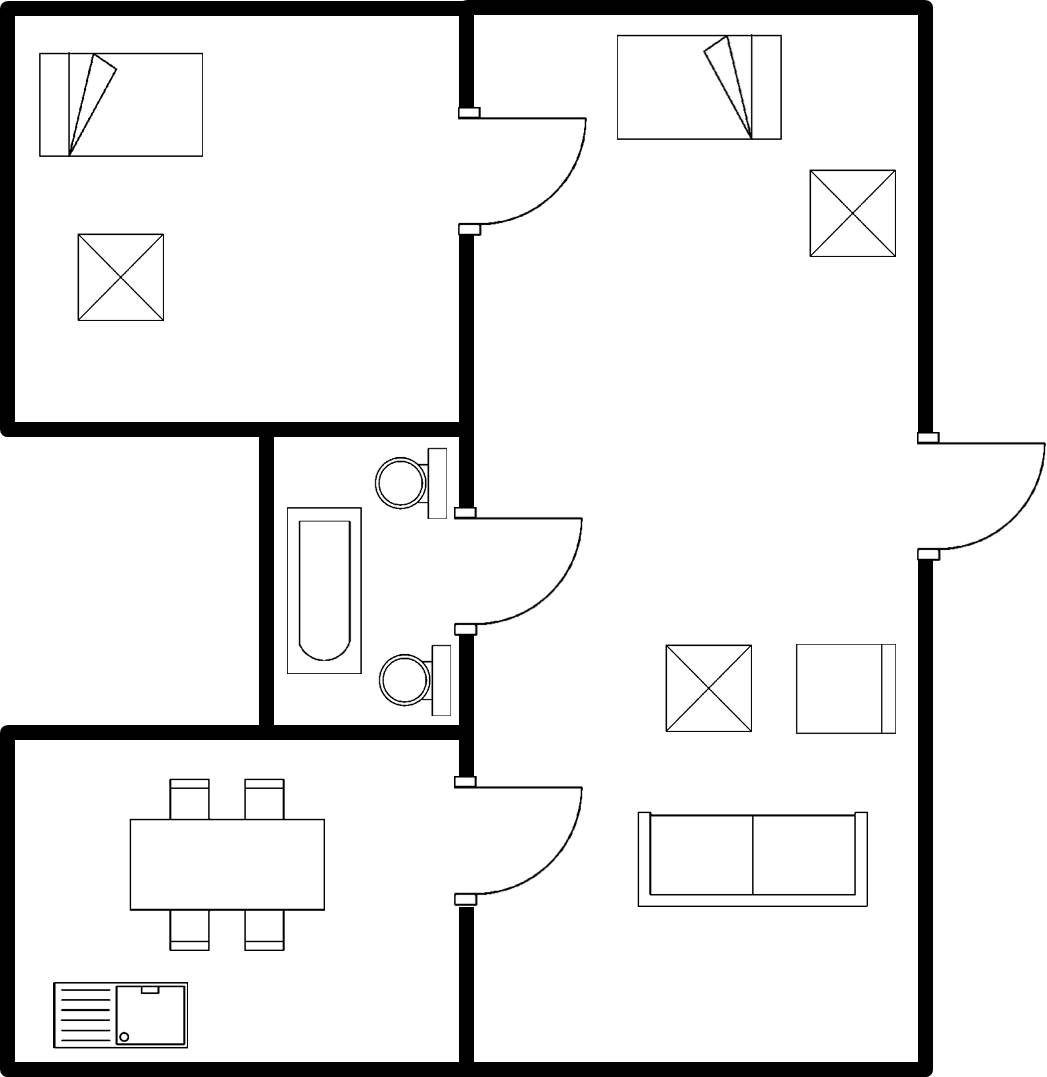bed: (30, 42, 213, 170), (607, 27, 790, 149)
coffee_table: (653, 634, 762, 743), (66, 229, 174, 329), (802, 161, 903, 267)
dining_table: (120, 772, 338, 958)
large_sink: (370, 442, 451, 531), (373, 641, 456, 721)
large_sofa: (626, 803, 881, 916)
sink: (42, 975, 194, 1055)
small_sofa: (787, 635, 902, 742)
tub: (280, 499, 368, 681)
